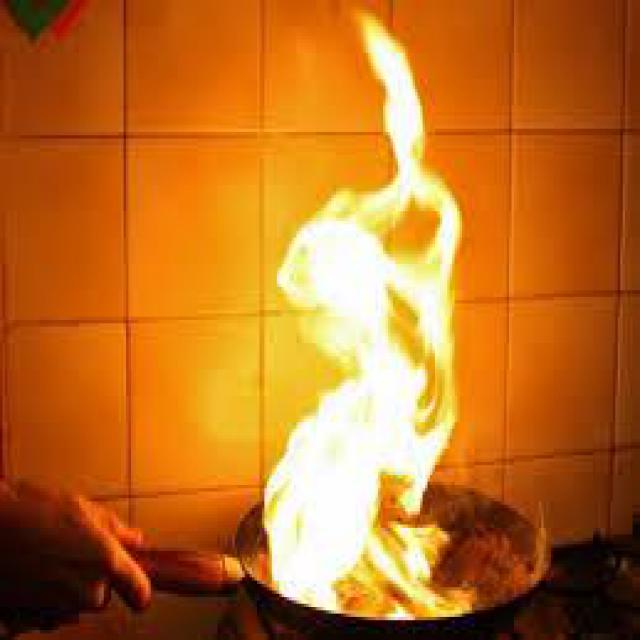fire: (263, 24, 500, 634)
